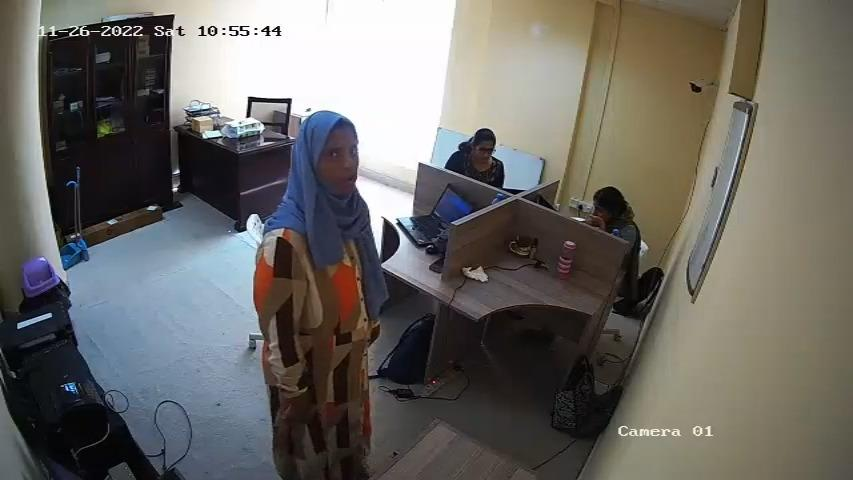no_apron: (268, 226, 372, 394)
